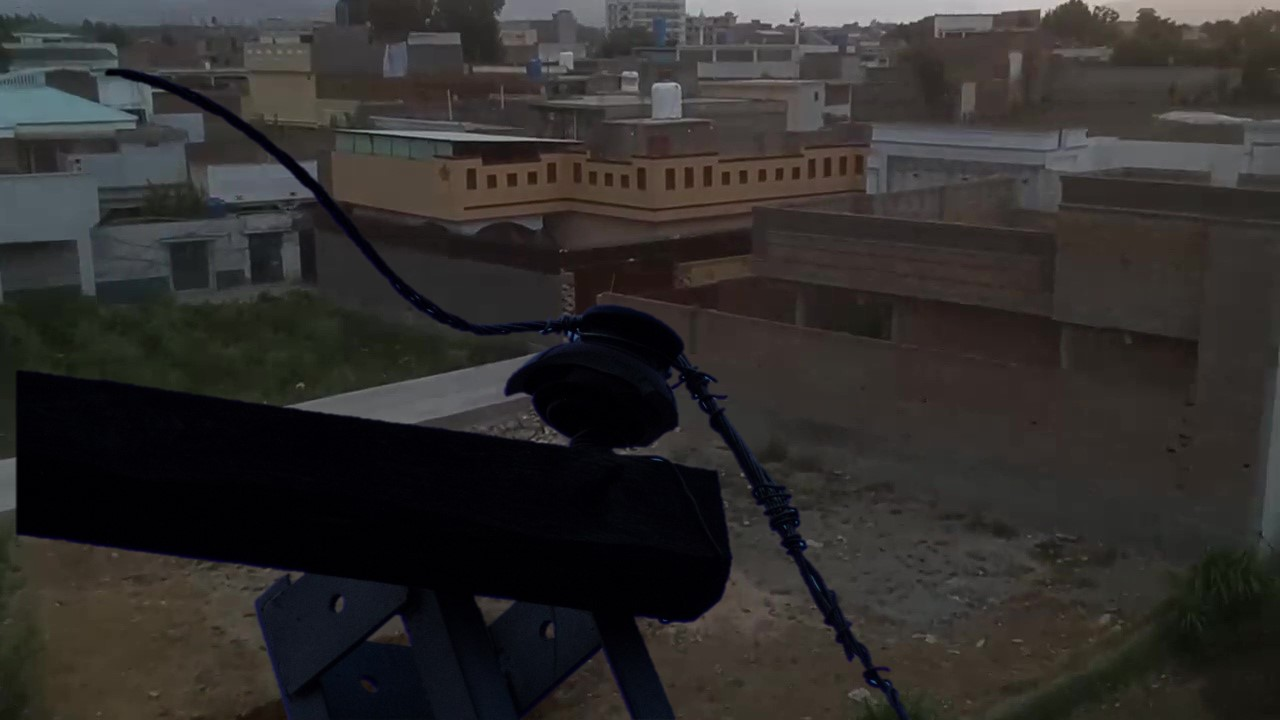defect_pin: (502, 300, 697, 450)
